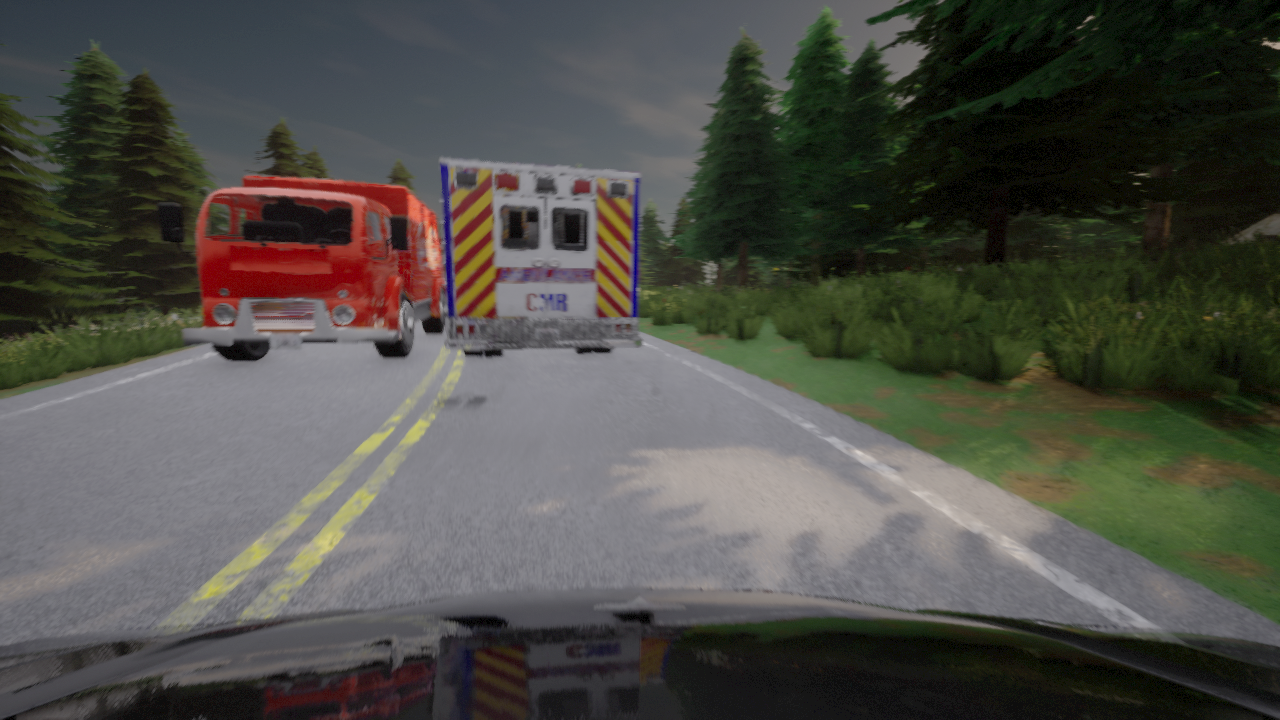cyclist: (0, 588, 1279, 719), (157, 175, 446, 361), (439, 158, 641, 356)
